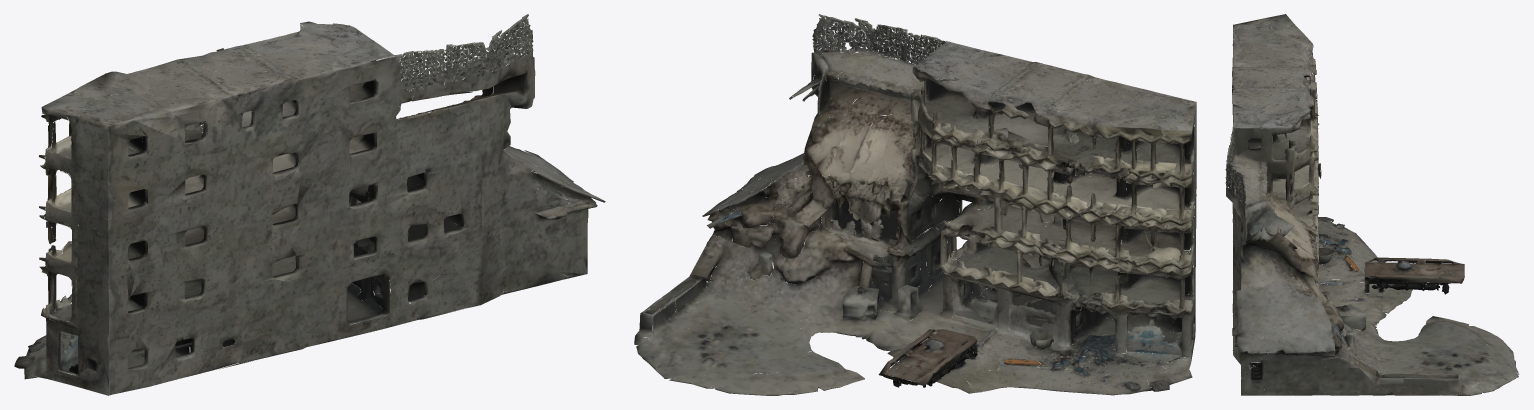
Rendered from hero_tripo3.glb.
3 views of the same model, side by side, from view 1: azimuth 30°, elevation 25°; view 2: azimuth 150°, elevation 25°; view 3: azimuth 270°, elevation 25° (orthographic). The views are drawn at different scales.
Parts seen in each view (by area): view 1: hero; view 2: hero; view 3: hero.
Boxes of the visible parts, left/top/right/bottom form: hero: left=14, top=14, right=605, bottom=395; hero: left=634, top=14, right=1196, bottom=395; hero: left=1225, top=14, right=1519, bottom=395.
Bounding box in the file's own units: 0.9826 × 0.4932 × 0.6317.
1 material, 1 textured.
